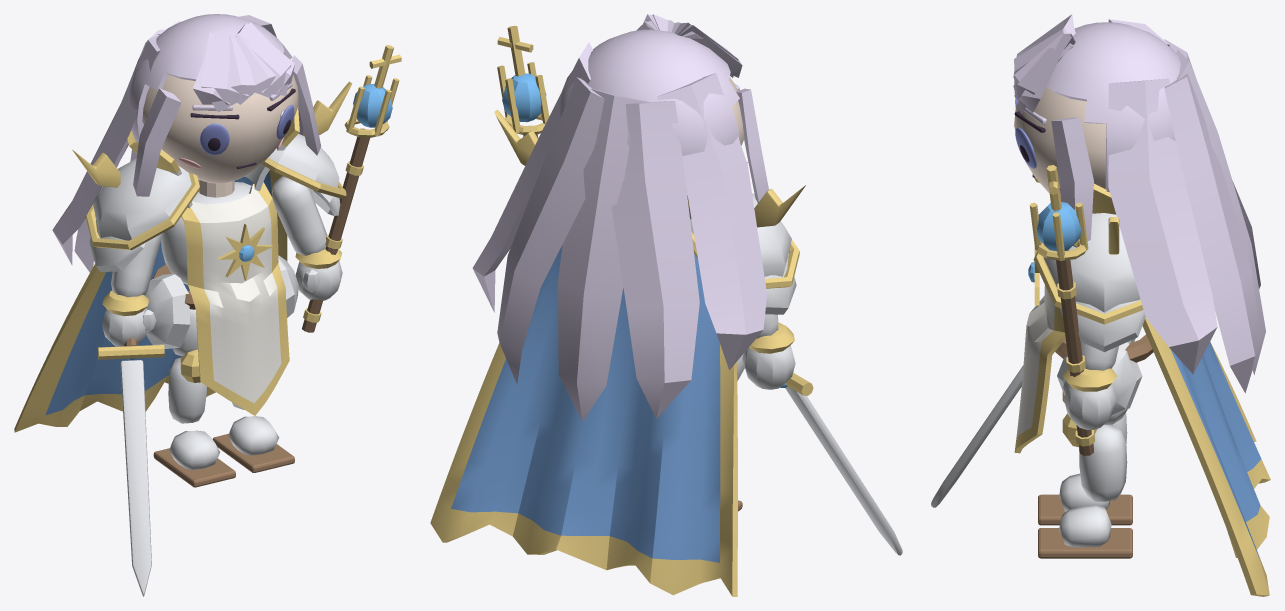
Rendered from brenna.glb.
The picture shows the model from 3 angles, left to right: view 1: azimuth 30°, elevation 25°; view 2: azimuth 150°, elevation 25°; view 3: azimuth 270°, elevation 25°; orthographic projection. The views are drawn at different scales.
Parts seen in each view (by area): view 1: torso, head, hero, cape, arm_r, arm_l; view 2: head, cape, arm_r, torso, arm_l; view 3: head, torso, cape, hero, arm_l, arm_r.
Part boxes in pixels (x1,y1,x2,y2): torso: (72, 81, 351, 415); head: (52, 14, 320, 272); hero: (145, 255, 298, 487); cape: (14, 169, 287, 432); arm_r: (97, 233, 164, 596); arm_l: (272, 45, 401, 332); head: (472, 14, 768, 421); cape: (430, 245, 737, 596); arm_r: (742, 314, 902, 555); torso: (494, 109, 805, 314); arm_l: (497, 25, 549, 138); head: (1013, 14, 1265, 393); torso: (1014, 177, 1145, 453); cape: (1142, 317, 1270, 596); hero: (1038, 334, 1153, 558); arm_l: (1029, 165, 1118, 455); arm_r: (931, 365, 1023, 507).
Size of the model in its own units: 0.8712 by 1.31 by 0.7145.
